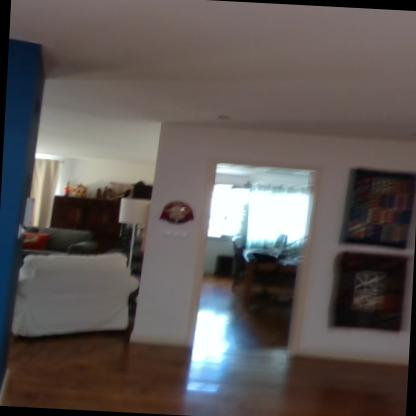open: (198, 152, 334, 390)
